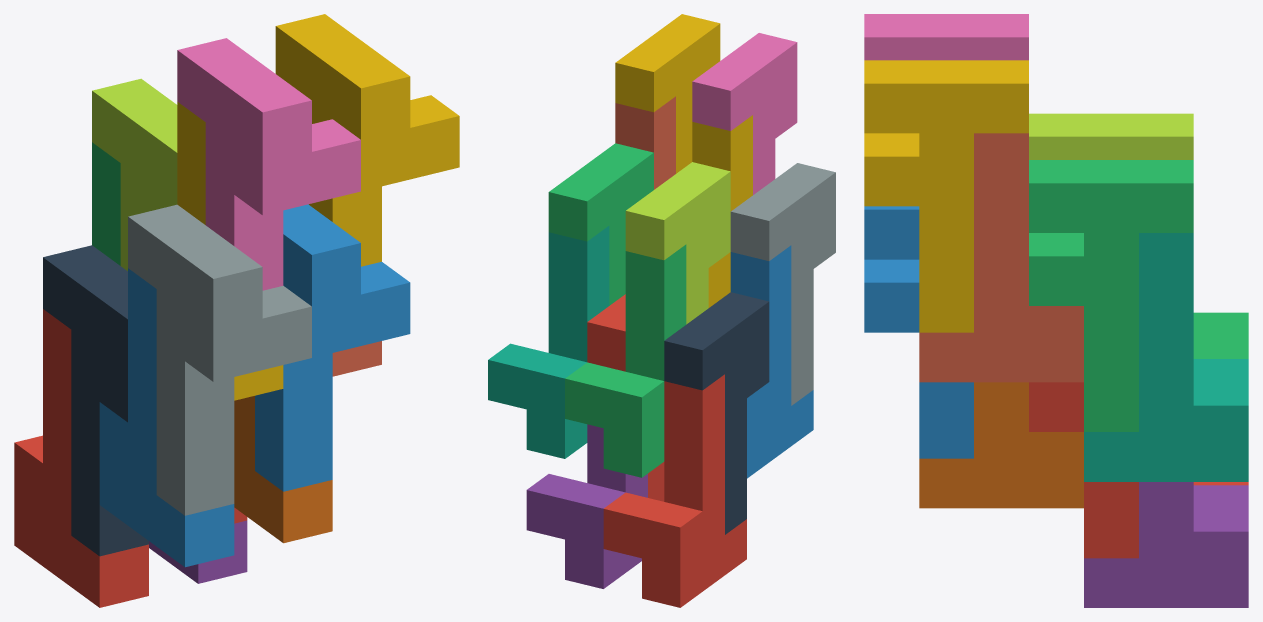
Rendered from tiling.obj.
The picture shows the model from 3 angles, left to right: view 1: azimuth 30°, elevation 25°; view 2: azimuth 150°, elevation 25°; view 3: azimuth 270°, elevation 25°; orthographic projection. The views are drawn at different scales.
Parts seen in each view (by area): view 1: copy_2_domain_2, copy_2_domain_4, copy_2_domain_6, copy_2_domain_8, copy_2_domain_1, copy_1_domain_1, copy_1_domain_2, copy_2_domain_3, copy_1_domain_6, copy_1_domain_4, copy_1_domain_3, copy_1_domain_5 (+1 smaller); view 2: copy_1_domain_1, copy_1_domain_3, copy_1_domain_7, copy_2_domain_2, copy_2_domain_1, copy_2_domain_4, copy_2_domain_3, copy_1_domain_5, copy_1_domain_2, copy_2_domain_7, copy_2_domain_8, copy_1_domain_4 (+2 smaller); view 3: copy_2_domain_8, copy_2_domain_7, copy_1_domain_7, copy_1_domain_8, copy_1_domain_5, copy_1_domain_6, copy_2_domain_6, copy_2_domain_3, copy_2_domain_4, copy_2_domain_5, copy_1_domain_3.
Part boxes in pixels (x1,y1,x2,y2): copy_2_domain_2: [128, 204, 311, 515]; copy_2_domain_4: [177, 38, 360, 290]; copy_2_domain_6: [255, 204, 410, 491]; copy_2_domain_8: [275, 14, 459, 266]; copy_2_domain_1: [43, 245, 148, 556]; copy_1_domain_1: [14, 309, 148, 607]; copy_1_domain_2: [99, 268, 234, 567]; copy_2_domain_3: [92, 78, 177, 270]; copy_1_domain_6: [234, 396, 332, 543]; copy_1_domain_4: [177, 102, 283, 400]; copy_1_domain_3: [92, 142, 120, 265]; copy_1_domain_5: [149, 520, 247, 583]; copy_1_domain_1: [603, 374, 746, 607]; copy_1_domain_3: [565, 244, 686, 477]; copy_1_domain_7: [488, 226, 609, 458]; copy_2_domain_2: [730, 163, 835, 405]; copy_2_domain_1: [664, 292, 769, 534]; copy_2_domain_4: [692, 33, 797, 194]; copy_2_domain_3: [625, 162, 730, 324]; copy_1_domain_5: [526, 424, 647, 588]; copy_1_domain_2: [730, 245, 813, 478]; copy_2_domain_7: [548, 143, 653, 305]; copy_2_domain_8: [615, 14, 720, 173]; copy_1_domain_4: [692, 115, 752, 307]; copy_2_domain_8: [864, 60, 1028, 332]; copy_2_domain_7: [1029, 160, 1193, 431]; copy_1_domain_7: [1084, 233, 1248, 481]; copy_1_domain_8: [919, 133, 1083, 382]; copy_1_domain_5: [1084, 482, 1248, 607]; copy_1_domain_6: [919, 382, 1083, 508]; copy_2_domain_6: [864, 206, 973, 458]; copy_2_domain_3: [1029, 113, 1193, 159]; copy_2_domain_4: [864, 14, 1028, 60]; copy_2_domain_5: [1029, 382, 1138, 558]; copy_1_domain_3: [1193, 312, 1248, 358].
Size of the model in its own units: 5 by 11 by 7.
